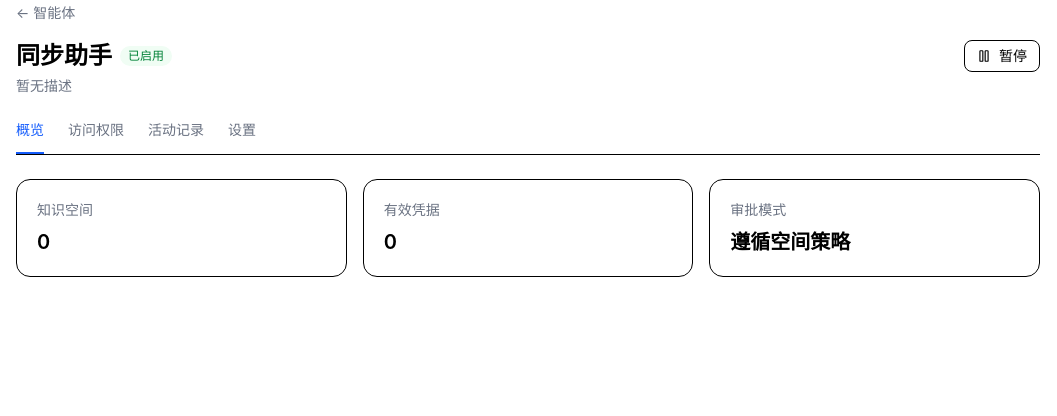
Test: AgentDetail › renders distinct collaboration results and import counts in zh-CN
This screenshot has width=1057, height=416.
Click the button "活动记录": (176, 137) [148, 120, 204, 154]
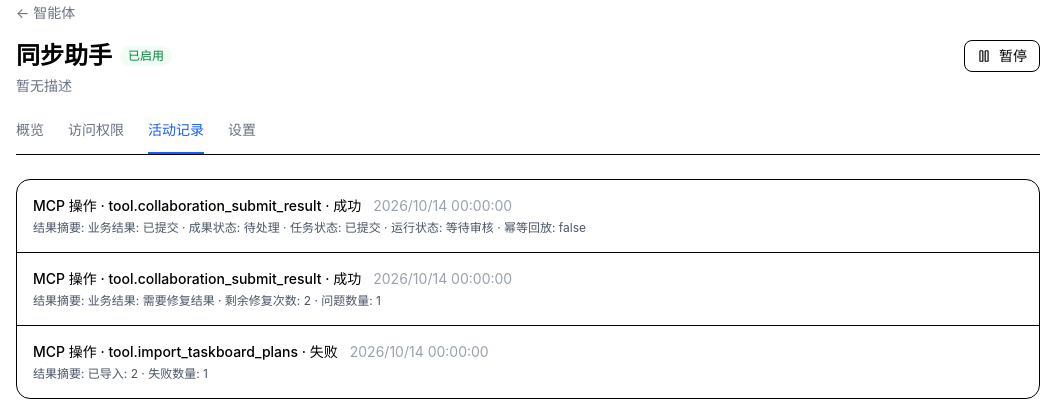
Expected: the text "结果摘要: 业务结果: 需要修复结果 · 剩余修复次数: 2 · 问题数量: 1" is shown, [33, 293, 381, 308]
Expected: the text "结果摘要: 已导入: 2 · 失败数量: 1" is shown, [33, 366, 208, 381]
